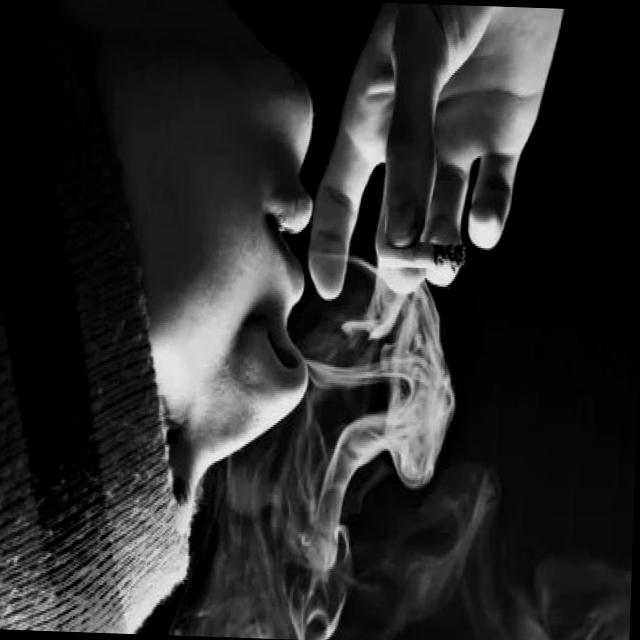smoke: (372, 232, 468, 285)
